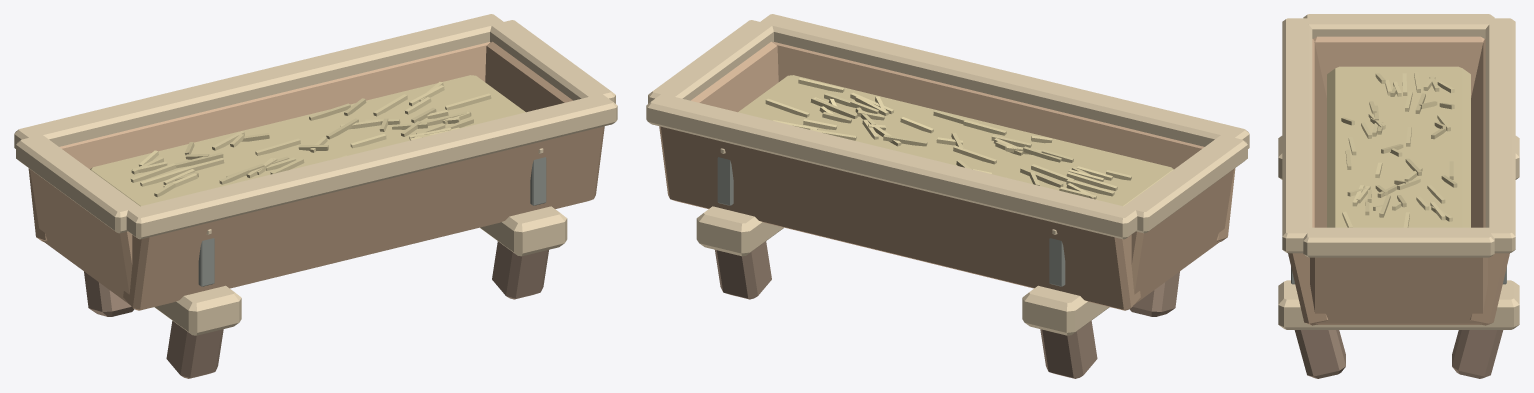
File: crafted-cow-food-2.glb
3 renders of one model, left to right at view 1: azimuth 30°, elevation 25°; view 2: azimuth 150°, elevation 25°; view 3: azimuth 270°, elevation 25°, orthographic. The views are drawn at different scales.
Visible parts, largest first — view 1: long-stave-1, rim-long-1, hay-volume, rim-long, long-stave, end-stave, rim-end, rim-end-1, end-stave-1, trestle-1, trestle, splayed-leg-3 (+4 smaller); view 2: long-stave, rim-long, hay-volume, rim-long-1, long-stave-1, end-stave, rim-end, rim-end-1, end-stave-1, trestle-1, trestle, splayed-leg-2 (+4 smaller); view 3: hay-volume, end-stave-1, rim-long-1, rim-long, rim-end-1, end-stave, rim-end, long-stave, long-stave-1, trestle-1, splayed-leg-2, splayed-leg-3 (+1 smaller).
Part boxes in pixels (x1,y1,x2,y2): long-stave-1: [123, 126, 604, 310]; rim-long-1: [126, 94, 617, 239]; hay-volume: [90, 75, 525, 206]; rim-long: [14, 14, 503, 148]; long-stave: [28, 42, 490, 241]; end-stave: [30, 169, 132, 304]; rim-end: [16, 135, 139, 233]; rim-end-1: [490, 20, 615, 103]; end-stave-1: [485, 41, 572, 112]; trestle-1: [480, 206, 567, 256]; trestle: [154, 285, 241, 335]; splayed-leg-3: [492, 241, 548, 299]; long-stave: [659, 126, 1140, 310]; rim-long: [646, 94, 1137, 239]; hay-volume: [738, 75, 1173, 206]; rim-long-1: [760, 14, 1249, 148]; long-stave-1: [773, 42, 1235, 241]; end-stave: [1131, 169, 1233, 304]; rim-end: [1124, 135, 1247, 233]; rim-end-1: [648, 20, 773, 103]; end-stave-1: [691, 41, 778, 112]; trestle-1: [696, 206, 783, 256]; trestle: [1022, 285, 1109, 335]; splayed-leg-2: [715, 241, 771, 299]; hay-volume: [1327, 66, 1470, 227]; end-stave-1: [1310, 257, 1487, 324]; rim-long-1: [1282, 18, 1312, 253]; rim-long: [1485, 18, 1515, 253]; rim-end-1: [1303, 227, 1494, 257]; end-stave: [1313, 36, 1484, 97]; rim-end: [1303, 14, 1494, 38]; long-stave: [1470, 39, 1509, 325]; long-stave-1: [1288, 39, 1327, 325]; trestle-1: [1278, 280, 1519, 329]; splayed-leg-2: [1452, 330, 1503, 378]; splayed-leg-3: [1294, 330, 1345, 378].
Bounding box in the file's own units: 1.6 × 0.5736 × 0.72.
